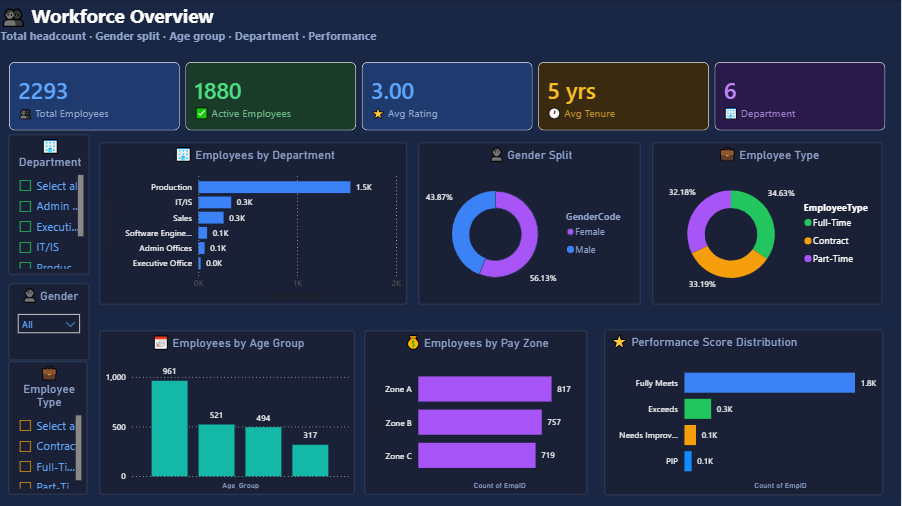

The page's visual inventory and layout, read from the dashboard file:
{"tool":"powerbi","page":{"name":"👥 Workforce Overview","canvas":[1280,720],"ordinal":0},"visuals":[{"type":"textbox","box":[0,0,1280,72],"z":0},{"type":"cardVisual","fields":{"Data":["CountNonNull(hr_data.EmpID)","hr_data.Active Employees","hr_data.Avg Rating","hr_data.Avg Tenure","Count(hr_data.DepartmentType)"]},"box":[0,71.7,1280,131.7],"z":1000},{"type":"clusteredBarChart","title":"🏢 Employees by Department","fields":{"Category":["hr_data.DepartmentType"],"Y":["CountNonNull(hr_data.EmpID)"]},"box":[144.3,202.9,437.1,231.4],"z":2000},{"type":"donutChart","title":"👤 Gender Split","fields":{"Category":["hr_data.GenderCode"],"Y":["CountNonNull(hr_data.EmpID)"]},"box":[597.1,202.9,315.7,231.4],"z":3000},{"type":"donutChart","title":"💼 Employee Type","fields":{"Category":["hr_data.EmployeeType"],"Y":["CountNonNull(hr_data.EmpID)"]},"box":[928.6,202.9,327.1,231.4],"z":4000},{"type":"clusteredColumnChart","title":"📅 Employees by Age Group","fields":{"Category":["hr_data.Age_Group"],"Y":["CountNonNull(hr_data.EmpID)"]},"box":[144.3,468.6,362.9,234.3],"z":5000},{"type":"clusteredBarChart","title":"💰 Employees by Pay Zone","fields":{"Category":["hr_data.PayZone"],"Y":["CountNonNull(hr_data.EmpID)"]},"box":[520,468.6,317.1,234.3],"z":6000},{"type":"clusteredBarChart","title":"⭐ Performance Score Distribution","fields":{"Category":["hr_data.Performance Score"],"Y":["CountNonNull(hr_data.EmpID)"]},"box":[860,467.1,395.7,235.7],"z":7000},{"type":"slicer","title":"🏢 Department","fields":{"Values":["hr_data.DepartmentType"]},"box":[15.7,191.4,115.7,200],"z":8000},{"type":"slicer","title":"👤 Gender","fields":{"Values":["hr_data.GenderCode"]},"box":[15.7,402.9,115.7,110],"z":9000},{"type":"slicer","title":"💼 Employee Type","fields":{"Values":["hr_data.EmployeeType"]},"box":[15.7,512.9,112.9,190],"z":10000}]}

Visuals, with their boxes in screenshot pixels (x1, y1, x2, y2), scaled from the page's 1280x720 canvas onto the 902x506 screenshot:
textbox: pyautogui.locateOnScreen(0, 0, 901, 51)
cardVisual - CountNonNull(hr_data.EmpID) x hr_data.Active Employees: pyautogui.locateOnScreen(0, 50, 901, 143)
"🏢 Employees by Department" clusteredBarChart: pyautogui.locateOnScreen(102, 143, 410, 305)
"👤 Gender Split" donutChart: pyautogui.locateOnScreen(421, 143, 643, 305)
"💼 Employee Type" donutChart: pyautogui.locateOnScreen(654, 143, 885, 305)
"📅 Employees by Age Group" clusteredColumnChart: pyautogui.locateOnScreen(102, 329, 357, 494)
"💰 Employees by Pay Zone" clusteredBarChart: pyautogui.locateOnScreen(366, 329, 590, 494)
"⭐ Performance Score Distribution" clusteredBarChart: pyautogui.locateOnScreen(606, 328, 885, 494)
"🏢 Department" slicer: pyautogui.locateOnScreen(11, 135, 93, 275)
"👤 Gender" slicer: pyautogui.locateOnScreen(11, 283, 93, 360)
"💼 Employee Type" slicer: pyautogui.locateOnScreen(11, 360, 91, 494)
